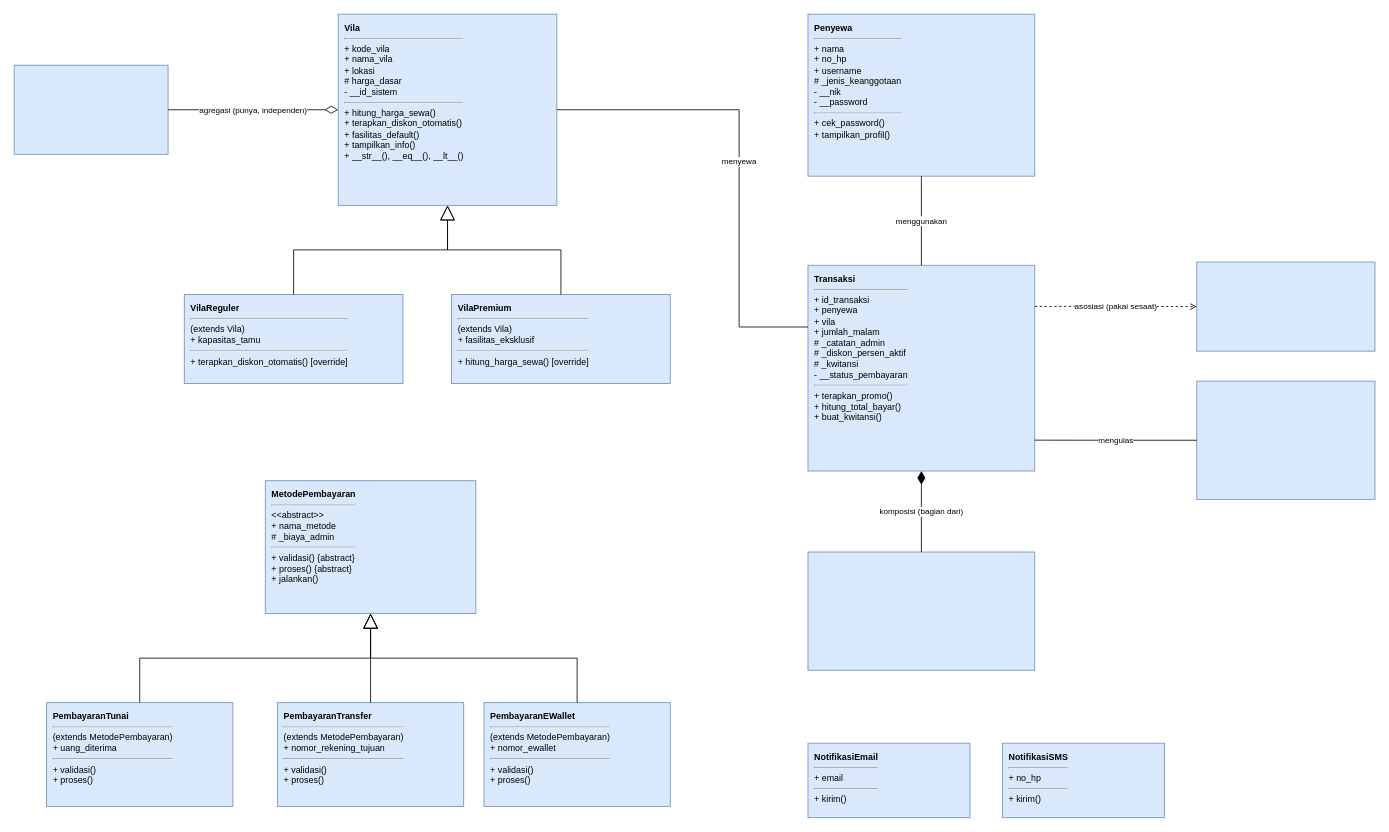
Some shapes in this 1389 by 832 pixel diagram are drawn without their labels. Here are the shapes that lost their labels. From the top down, the centre of each, then its label:
At (x=90, y=109): "Fasilitas + nama + deskripsi + __str__()".
At (x=1285, y=306): "KodePromo + kode_tersedia (class) + valid() + ambil_diskon_persen()".
At (x=1285, y=439): "Ulasan + id_ulasan + transaksi + komentar - __rating + tampilkan_ulasan()".
At (x=921, y=610): "Kwitansi + id_kwitansi + nama_penyewa + nama_vila + total_bayar + tampilkan()".
